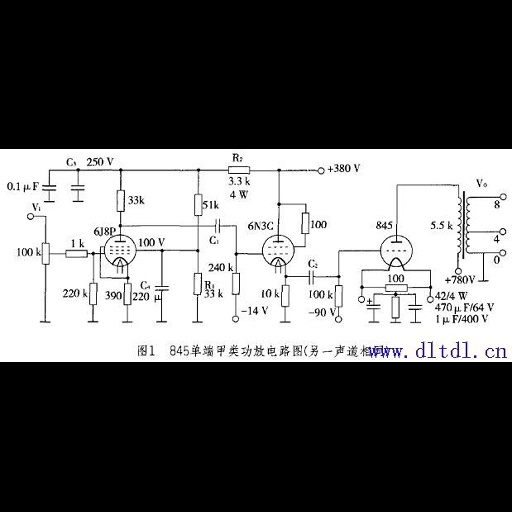capacitor: (302, 269, 319, 284), (41, 181, 59, 194), (405, 301, 424, 313), (211, 217, 224, 234), (69, 182, 87, 193), (154, 282, 172, 293)
firstpolarcapacitor: (366, 297, 383, 314)
firstresistance: (86, 280, 100, 309), (62, 247, 89, 262), (333, 284, 349, 309), (112, 187, 126, 215), (188, 271, 203, 297), (279, 282, 293, 309), (229, 272, 244, 297), (299, 209, 311, 237), (191, 192, 203, 219), (225, 164, 253, 175), (122, 282, 132, 312), (389, 295, 401, 320)
transformer: (453, 190, 473, 260)
